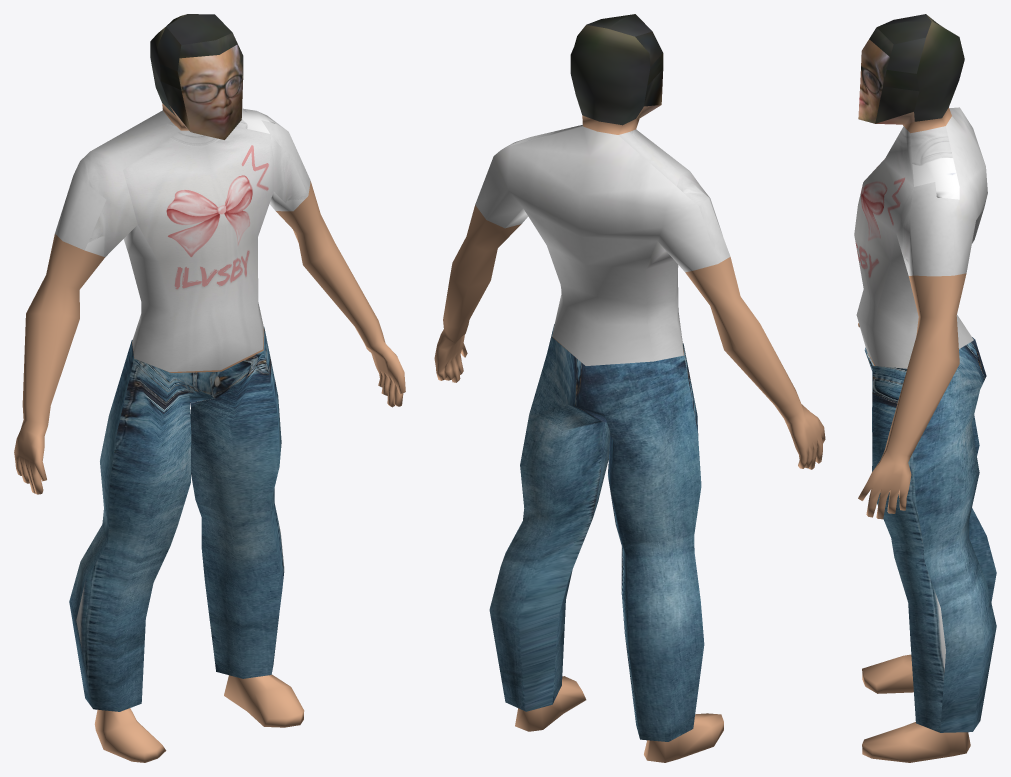
File: digo.fbx
The picture shows the model from 3 angles, left to right: view 1: azimuth 30°, elevation 25°; view 2: azimuth 150°, elevation 25°; view 3: azimuth 270°, elevation 25°; orthographic projection.
Visible parts, largest first — view 1: Cylinder; view 2: Cylinder; view 3: Cylinder.
Part boxes in pixels (x1,y1,x2,y2): Cylinder: [14, 14, 405, 762]; Cylinder: [434, 14, 825, 762]; Cylinder: [854, 14, 996, 762].
Size of the model in its own units: 888 by 1614 by 300.
Materials: 1 (1 with a texture image).
